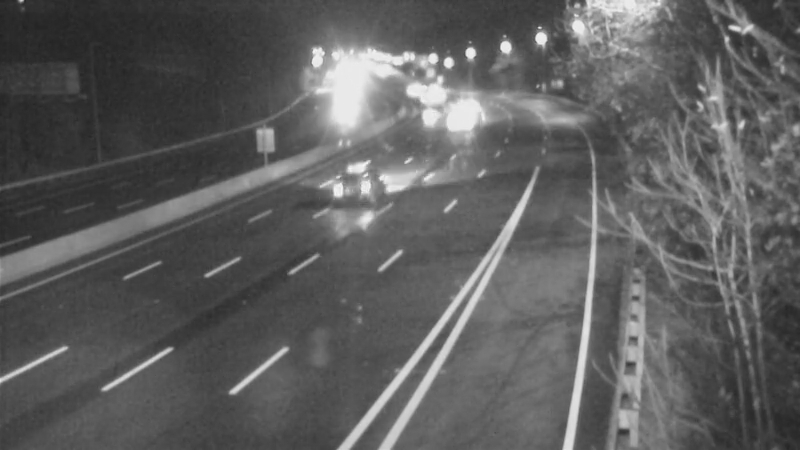vehicle: (310, 150, 390, 230), (441, 82, 491, 132), (400, 84, 450, 134), (435, 96, 485, 146)
